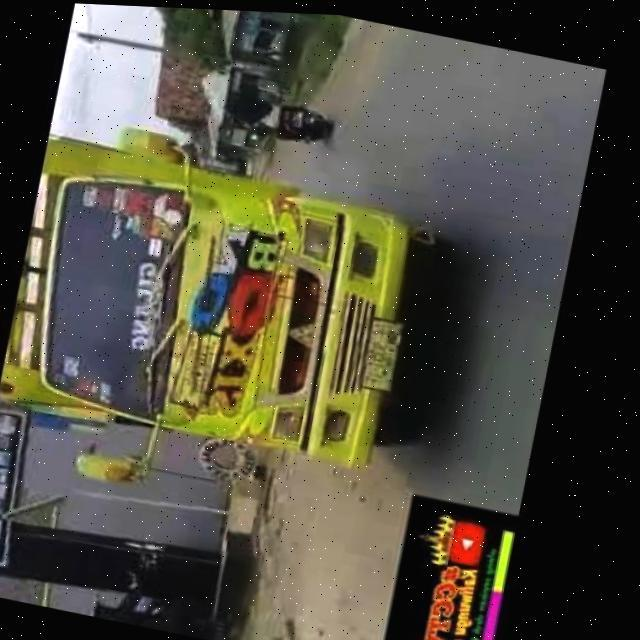truck: (0, 106, 485, 548)
